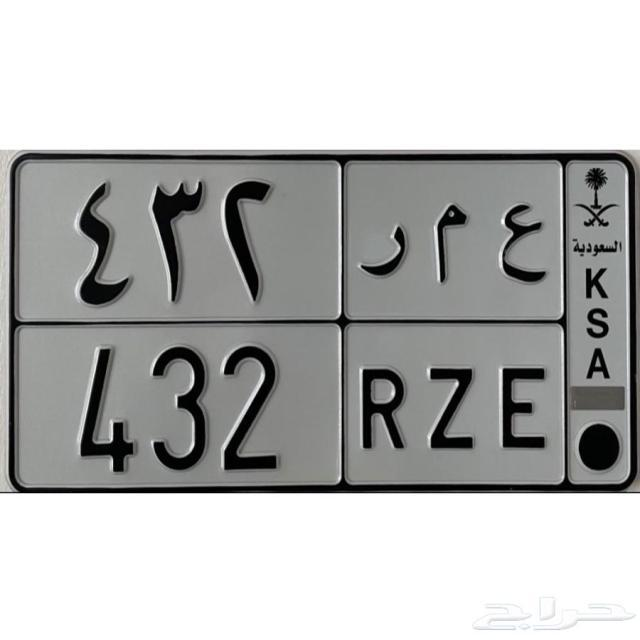license_plate: (69, 345, 557, 476)
